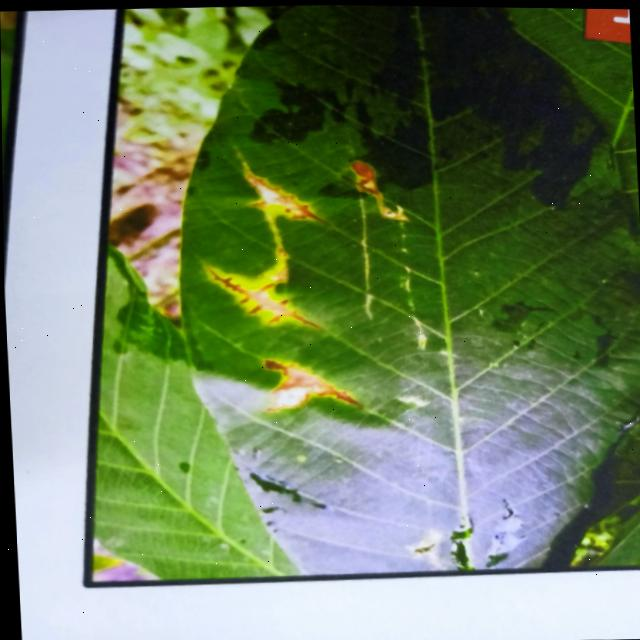Corynespora: (205, 261, 321, 334), (244, 171, 327, 225), (316, 384, 362, 407)
Leaf-Blight: (268, 363, 327, 408)
